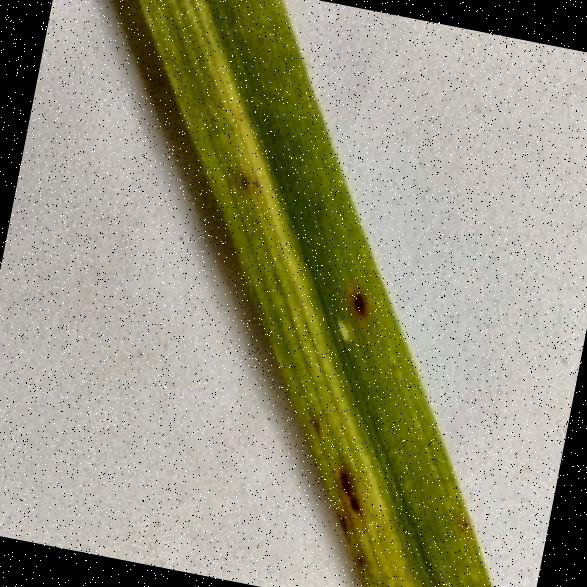Leaf_smut: (201, 152, 410, 332), (286, 435, 525, 587)
